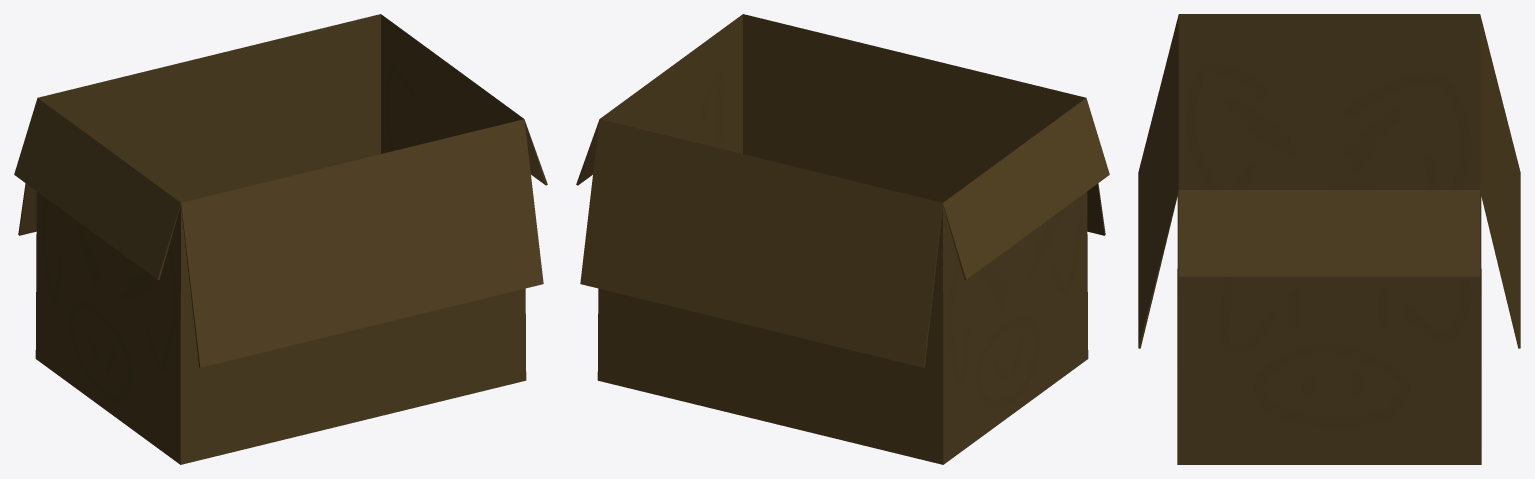
File: Carton.fbx
The picture shows the model from 3 angles, left to right: view 1: azimuth 30°, elevation 25°; view 2: azimuth 150°, elevation 25°; view 3: azimuth 270°, elevation 25°; orthographic projection. The views are drawn at different scales.
Parts seen in each view (by area): view 1: Carton; view 2: Carton; view 3: Carton.
Boxes of the visible parts, <box> form: Carton: <box>14,14,547,464</box>; Carton: <box>576,14,1109,464</box>; Carton: <box>1138,14,1520,464</box>.
Size of the model in its own units: 411 by 263 by 332.
